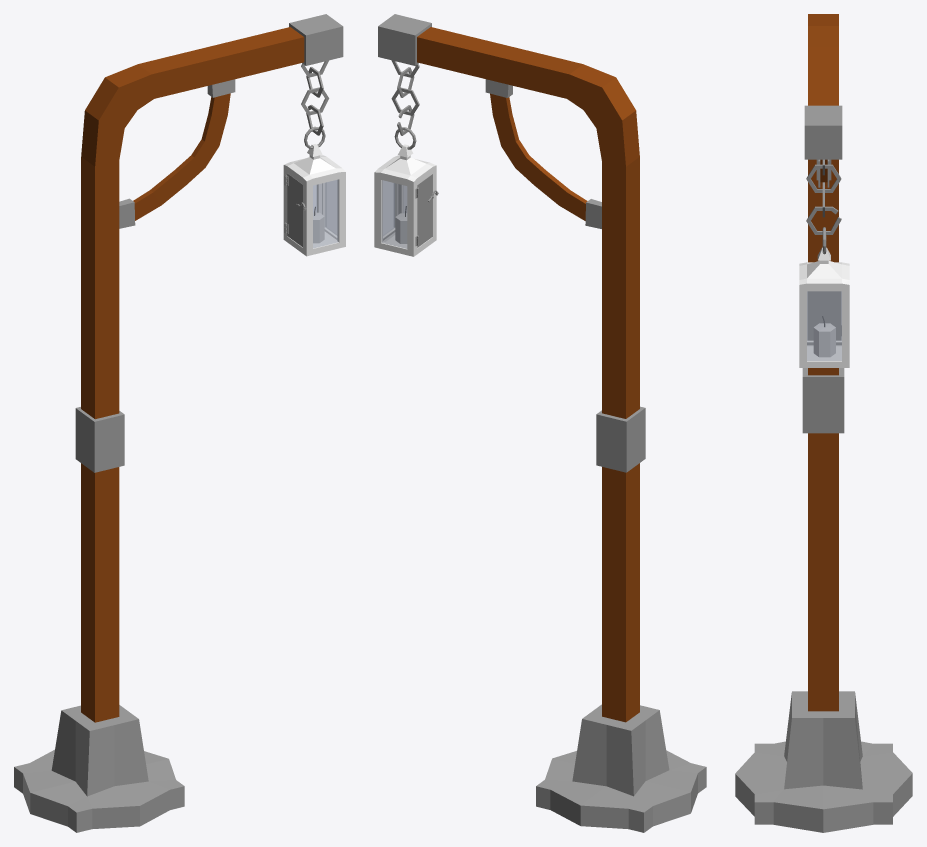
The model's file is LanternPost.fbx.
3 views of the same model, side by side, from view 1: azimuth 30°, elevation 25°; view 2: azimuth 150°, elevation 25°; view 3: azimuth 270°, elevation 25° (orthographic). The views are drawn at different scales.
Visible parts, largest first — view 1: LanternPost_LOD0; view 2: LanternPost_LOD0; view 3: LanternPost_LOD0.
Boxes of the visible parts, x1,y1,x2,y2 form: LanternPost_LOD0: [14, 14, 345, 832]; LanternPost_LOD0: [374, 14, 706, 832]; LanternPost_LOD0: [735, 14, 912, 832].
Size of what is drawn, in the model's own units: 782 by 1766 by 356.
